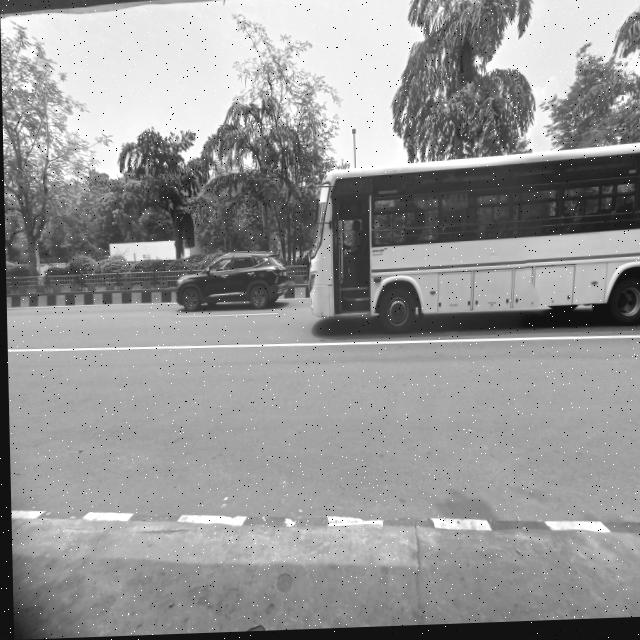bus: (307, 152, 640, 365)
car: (174, 245, 289, 326)
